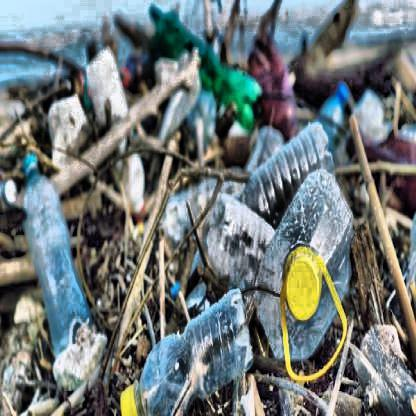Plastic wastes: (255, 167, 357, 372), (119, 284, 250, 415), (22, 151, 92, 336), (243, 135, 337, 219), (198, 188, 202, 192)
